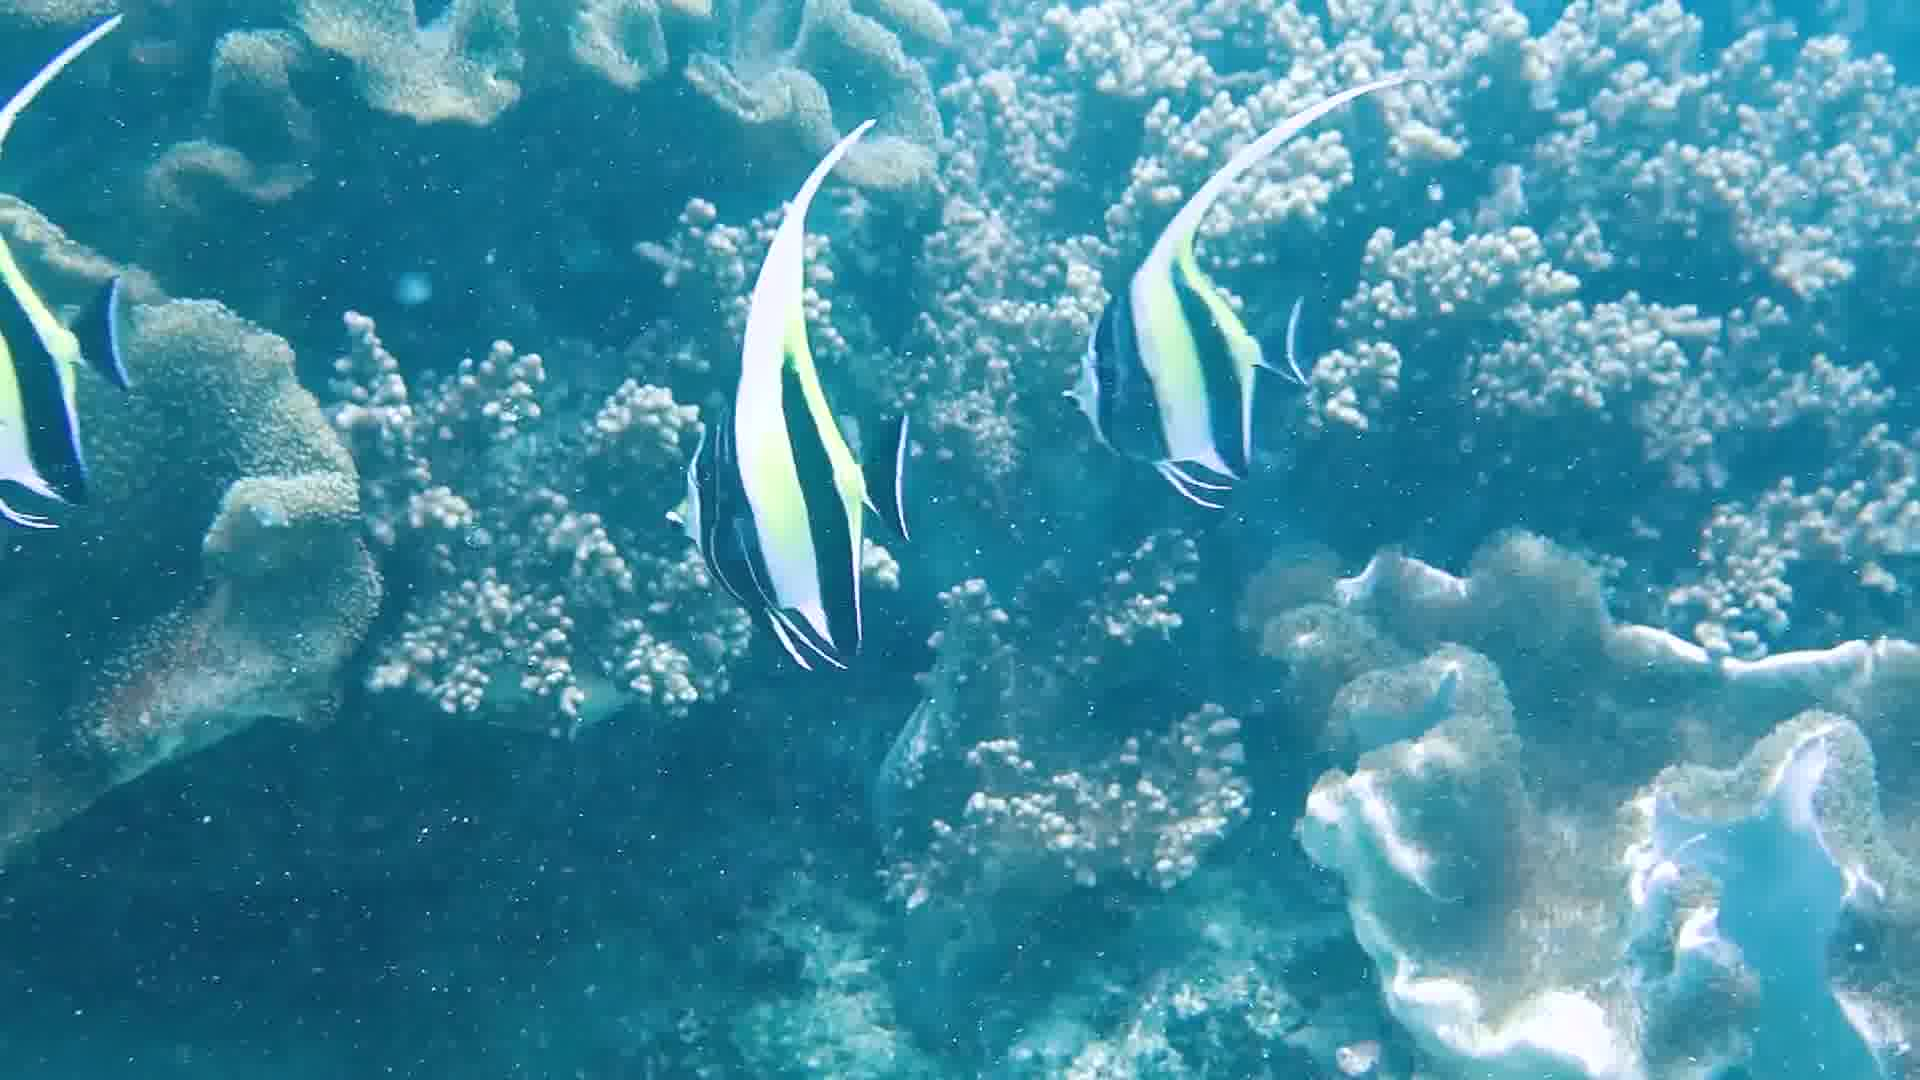Zanclus cornutus: (626, 294, 932, 651), (1080, 228, 1335, 502)
